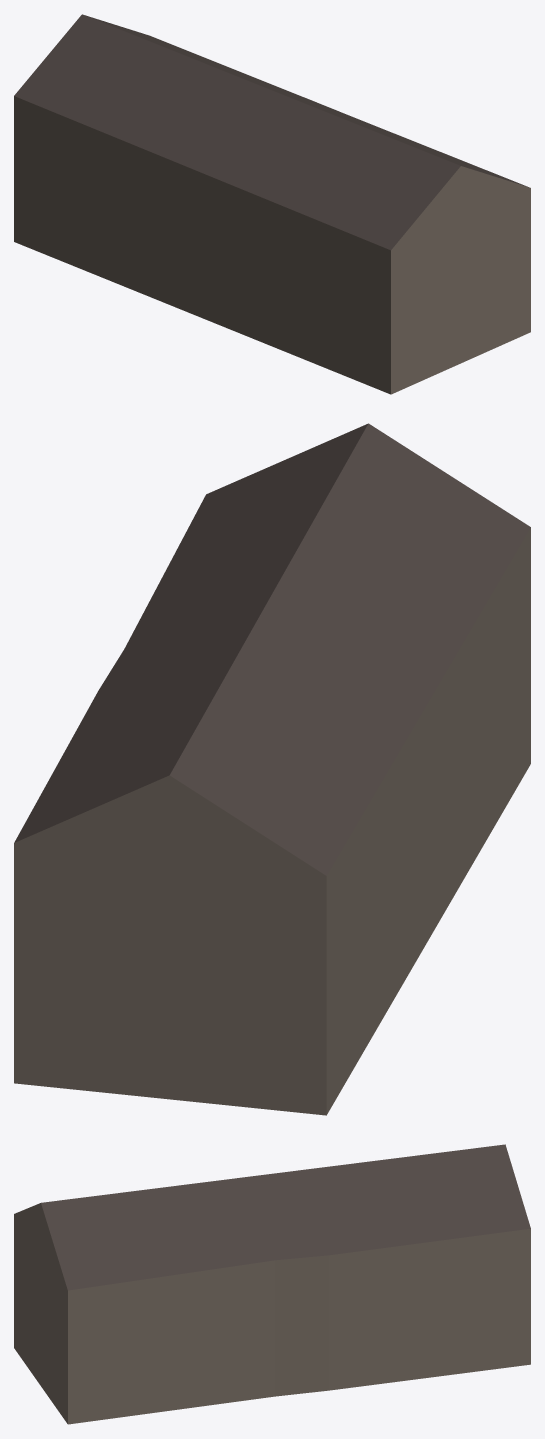
3 renders of one model, top to bottom at view 1: azimuth 30°, elevation 25°; view 2: azimuth 150°, elevation 25°; view 3: azimuth 270°, elevation 25°, orthographic. The views are drawn at different scales.
Visible parts, largest first — view 1: HP-w756797946; view 2: HP-w756797946; view 3: HP-w756797946.
Boxes of the visible parts, box(x1,y1,x2,y2) form: HP-w756797946: box(14, 14, 530, 394); HP-w756797946: box(14, 423, 530, 1115); HP-w756797946: box(14, 1144, 530, 1424).
Bounding box in the file's own units: 19.28 × 12.32 × 31.48.
